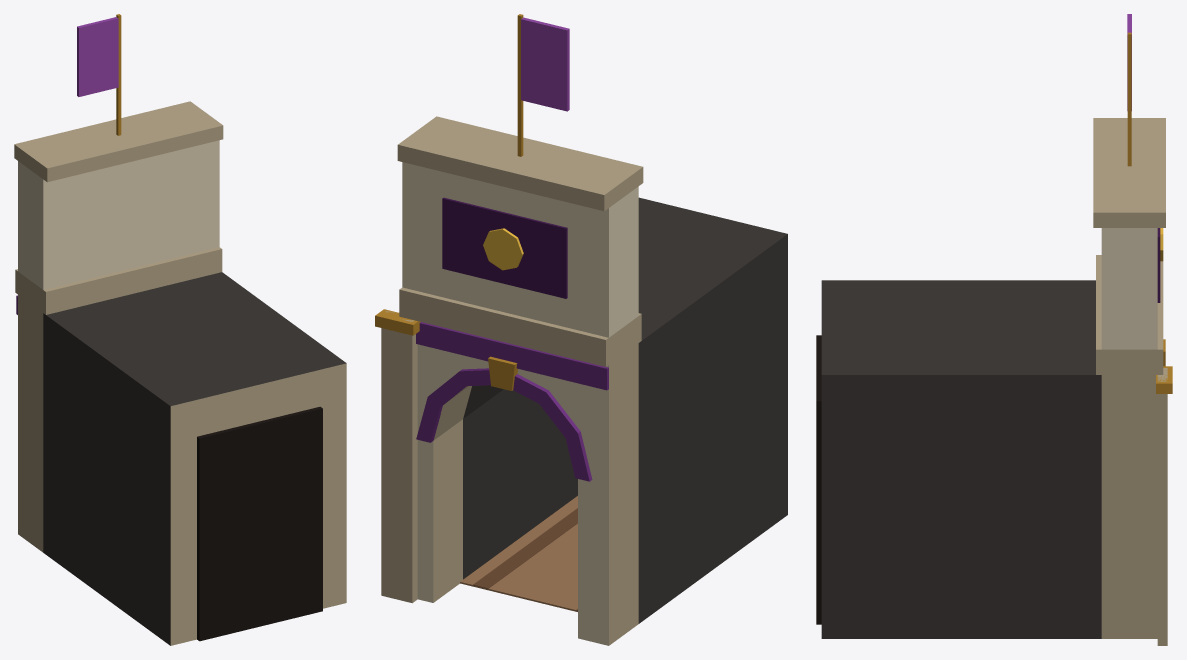
Rendered from SM_CarceresOpen.fbx.
3 renders of one model, left to right at view 1: azimuth 30°, elevation 25°; view 2: azimuth 150°, elevation 25°; view 3: azimuth 270°, elevation 25°, orthographic. The views are drawn at different scales.
Parts seen in each view (by area): view 1: SM_CarceresOpen; view 2: SM_CarceresOpen; view 3: SM_CarceresOpen.
Part boxes in pixels (x1,y1,x2,y2): SM_CarceresOpen: (14, 14, 346, 645); SM_CarceresOpen: (375, 14, 787, 645); SM_CarceresOpen: (816, 14, 1172, 645).
Size of the model in its own units: 4.37 by 6.37 by 11.
